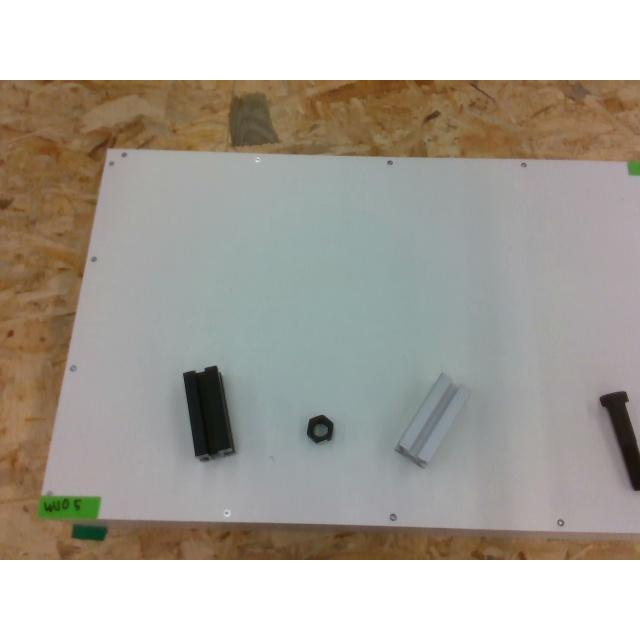M20: (306, 414, 334, 444)
M20_100: (599, 390, 639, 490)
S40_40_B: (182, 366, 234, 460)
S40_40_G: (395, 372, 469, 468)
